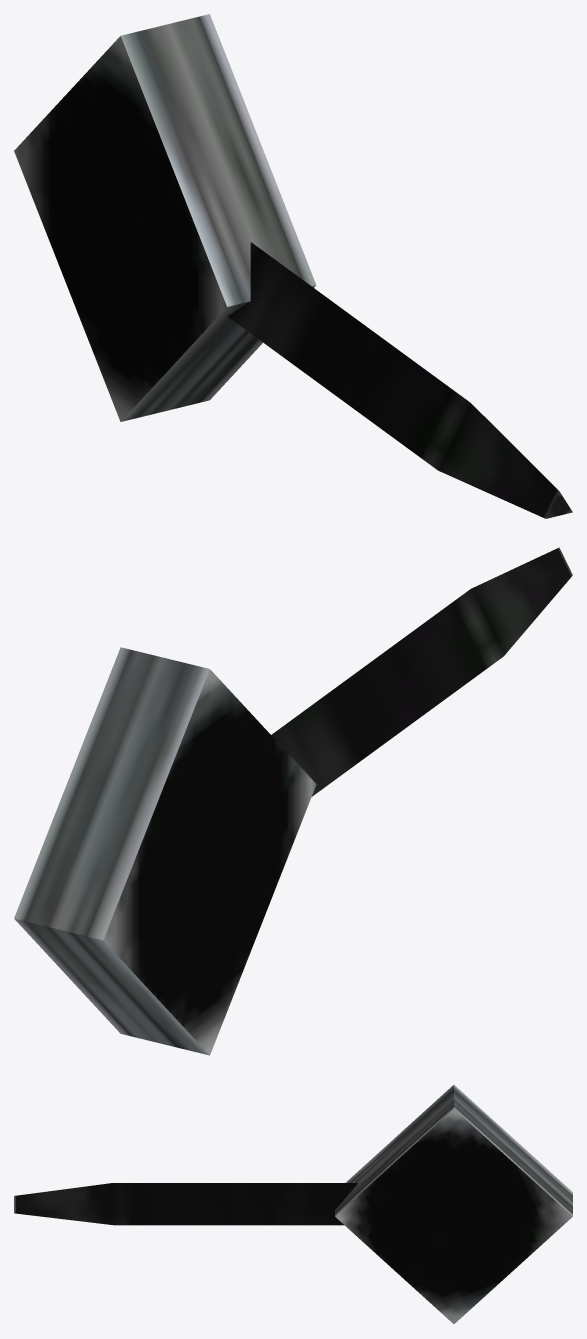
Rendered from imperial_gunboat_turretbody_wing_l2.fbx.
3 views of the same model, one above another, from view 1: azimuth 30°, elevation 25°; view 2: azimuth 150°, elevation 25°; view 3: azimuth 270°, elevation 25° (orthographic). The views are drawn at different scales.
Visible parts, largest first — view 1: mesh_node; view 2: mesh_node; view 3: mesh_node.
Part boxes in pixels (box(x1,y1,x2,y2)): mesh_node: box(14, 14, 572, 518); mesh_node: box(14, 547, 572, 1055); mesh_node: box(14, 1085, 572, 1323).
Bounding box in the file's own units: 0.8673 × 3.59 × 8.42.
1 material, 1 textured.
